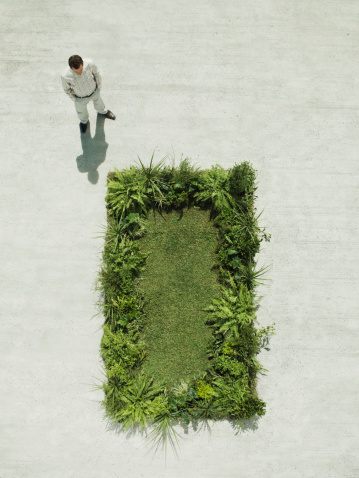em pe: (52, 52, 102, 144)
